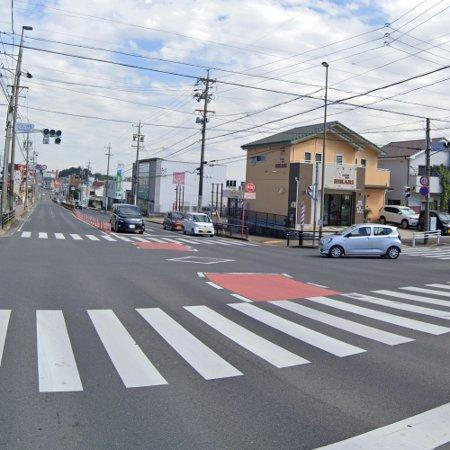crosswalk: (0, 282, 450, 393)
